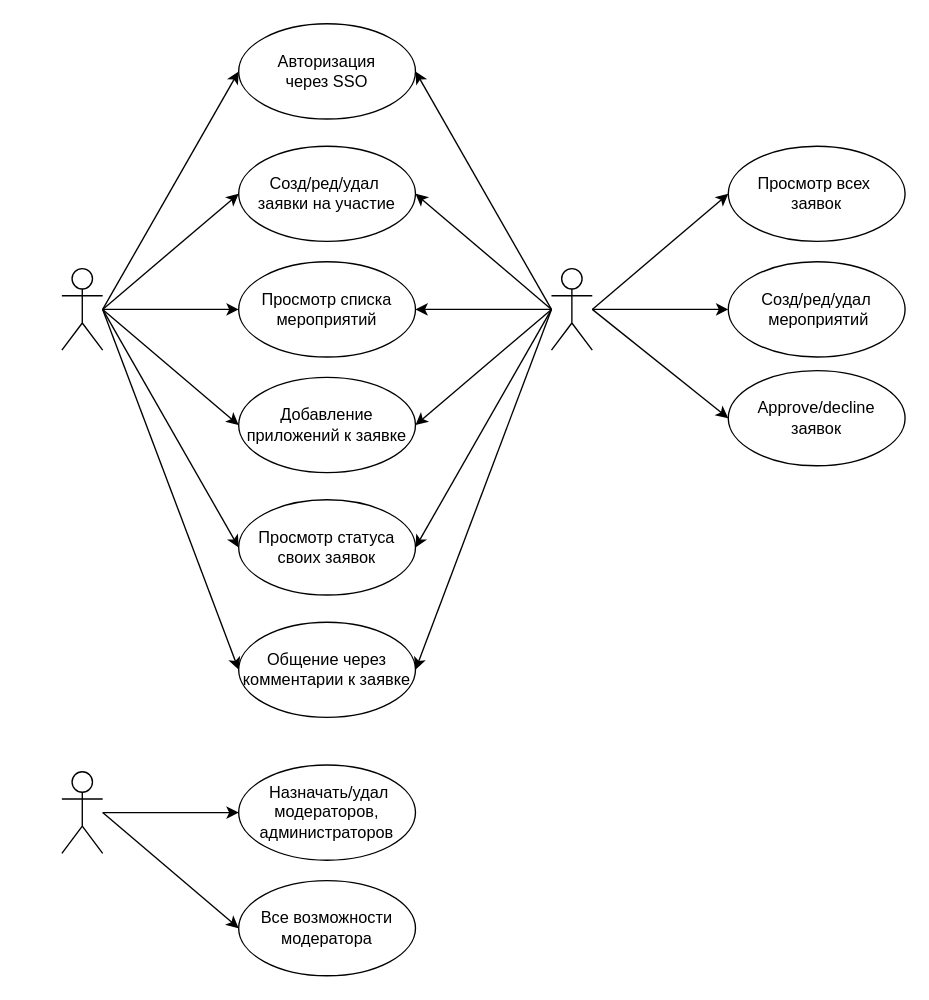
The diagram is 929 pixels wide and 1000 high, and some of its shapes have lost their labels. Here are the shapes that lost their labels. From the top down, the centre of each, then its label:
At point 82,308: "Докладчик".
At point 571,308: "Модератор".
At point 82,811: "Администратор".
